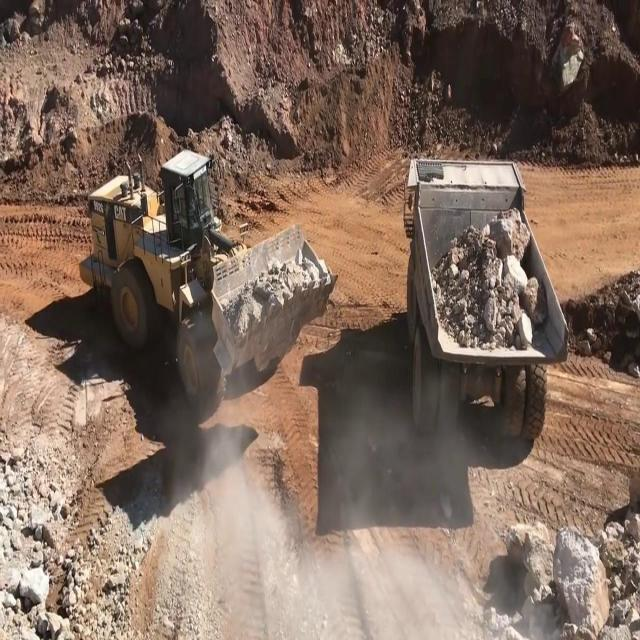Dump Truck: (398, 153, 572, 443)
Loader: (77, 143, 339, 413)
